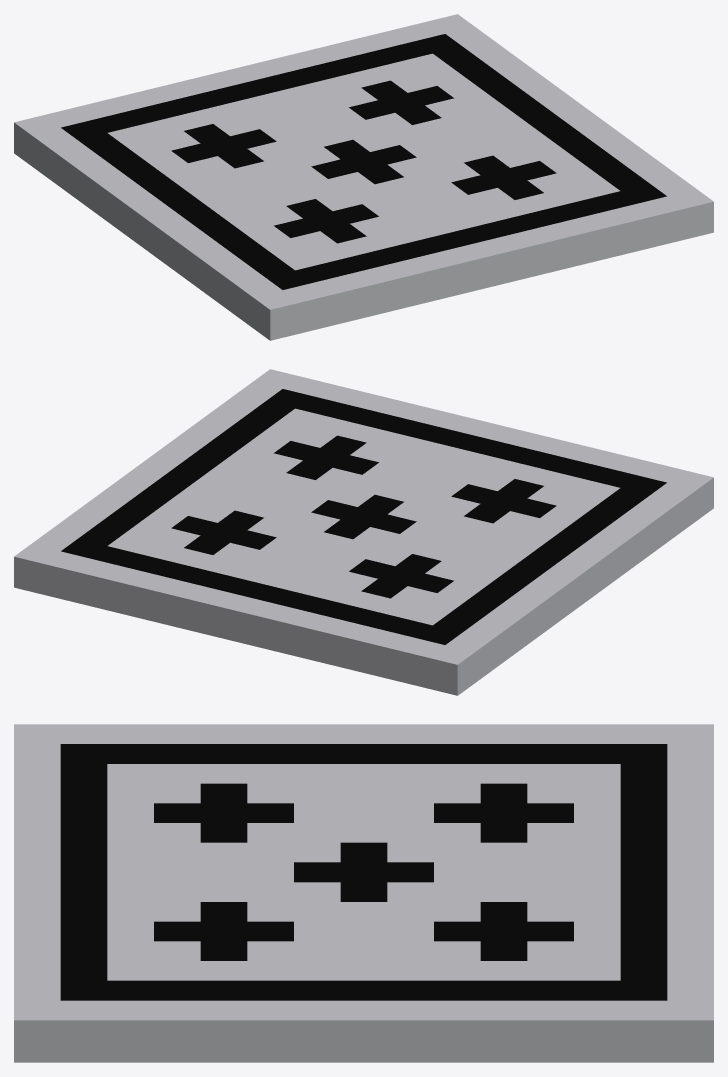
File: dungeon_d_b_ground_b_b.obj
The picture shows the model from 3 angles, top to bottom: view 1: azimuth 30°, elevation 25°; view 2: azimuth 150°, elevation 25°; view 3: azimuth 270°, elevation 25°; orthographic projection. The views are drawn at different scales.
Size of the model in its own units: 1.5 by 0.1 by 1.5.
Materials: 1 (1 with a texture image).
